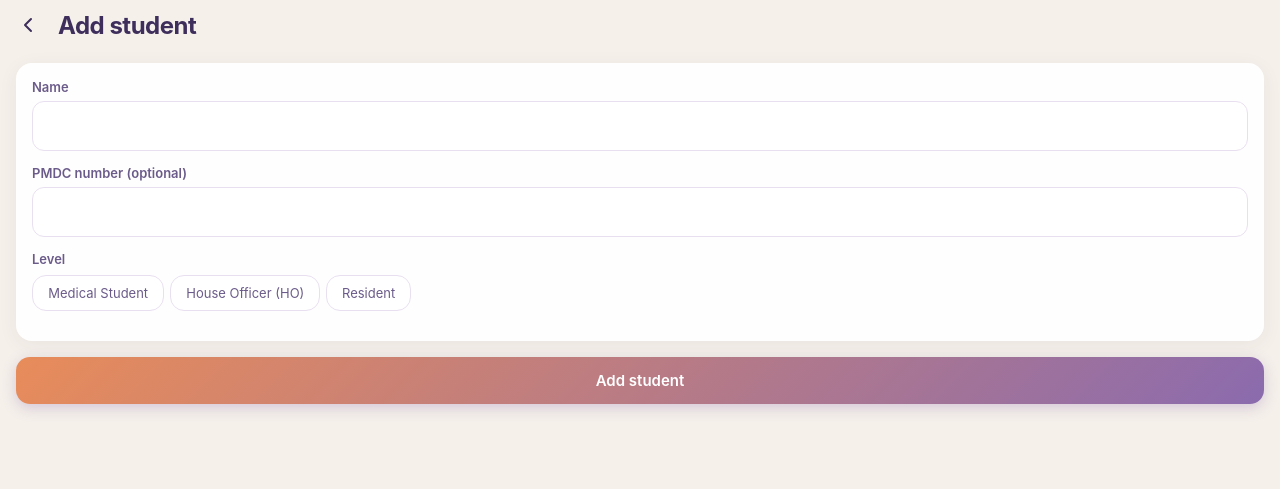
Test: student form › shows year chips only for medical students
Click the button "Medical Student": (98, 293) x1=32 y1=275 x2=164 y2=311
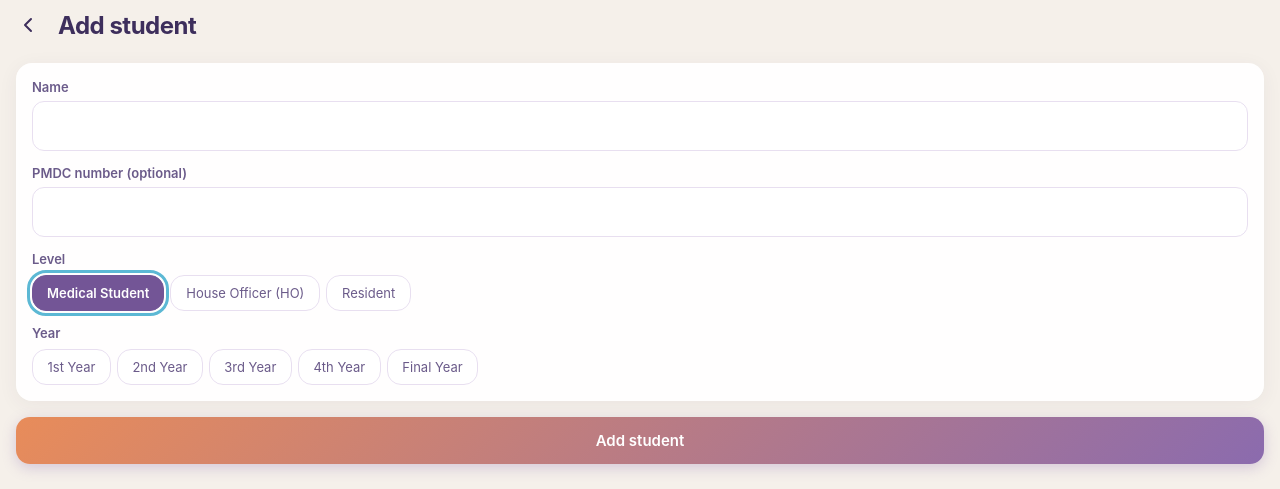
Expected: the element "Year" is shown, x1=31 y1=348 x2=478 y2=385
Click the button "House Officer (HO)": (245, 293) x1=170 y1=275 x2=320 y2=311
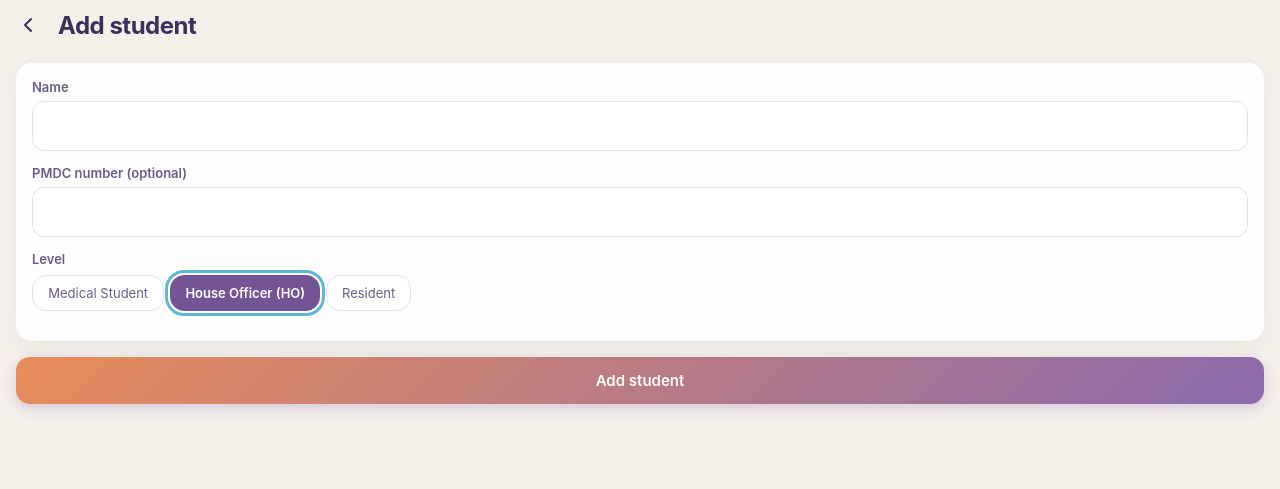
Expected: the text "Year" is gone
